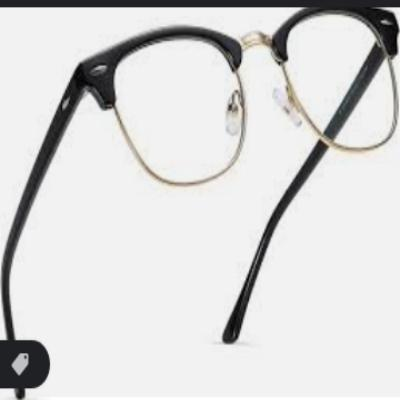glasses: (1, 7, 400, 395)
